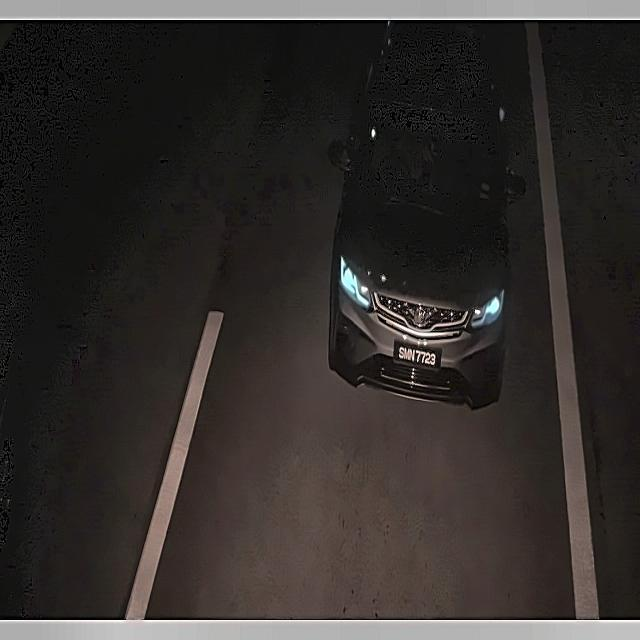car: (390, 338, 442, 374)
